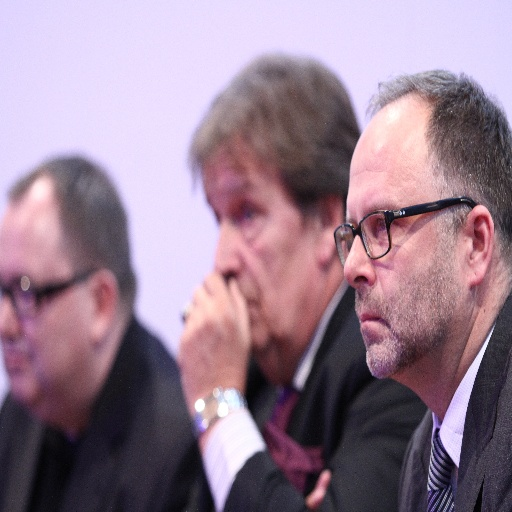hand: (173, 245, 271, 449), (306, 466, 333, 507)
